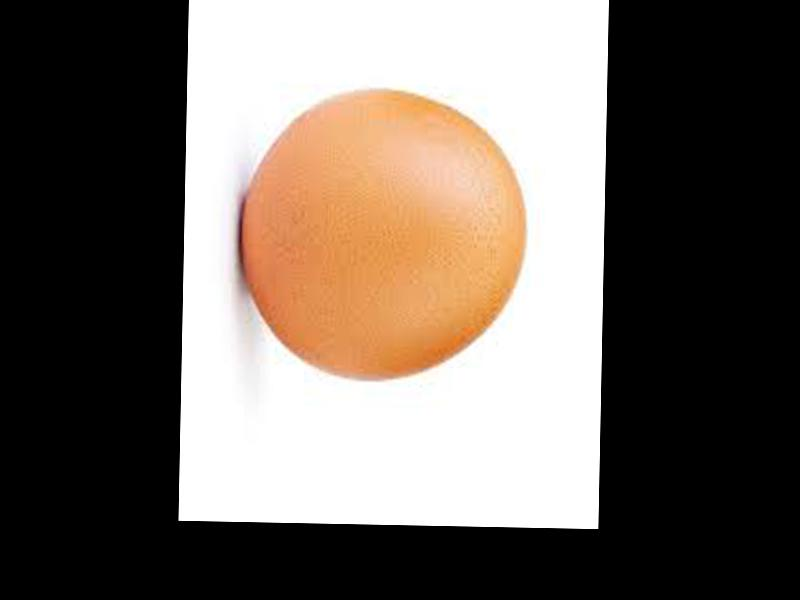Eggs: (240, 87, 524, 382)
